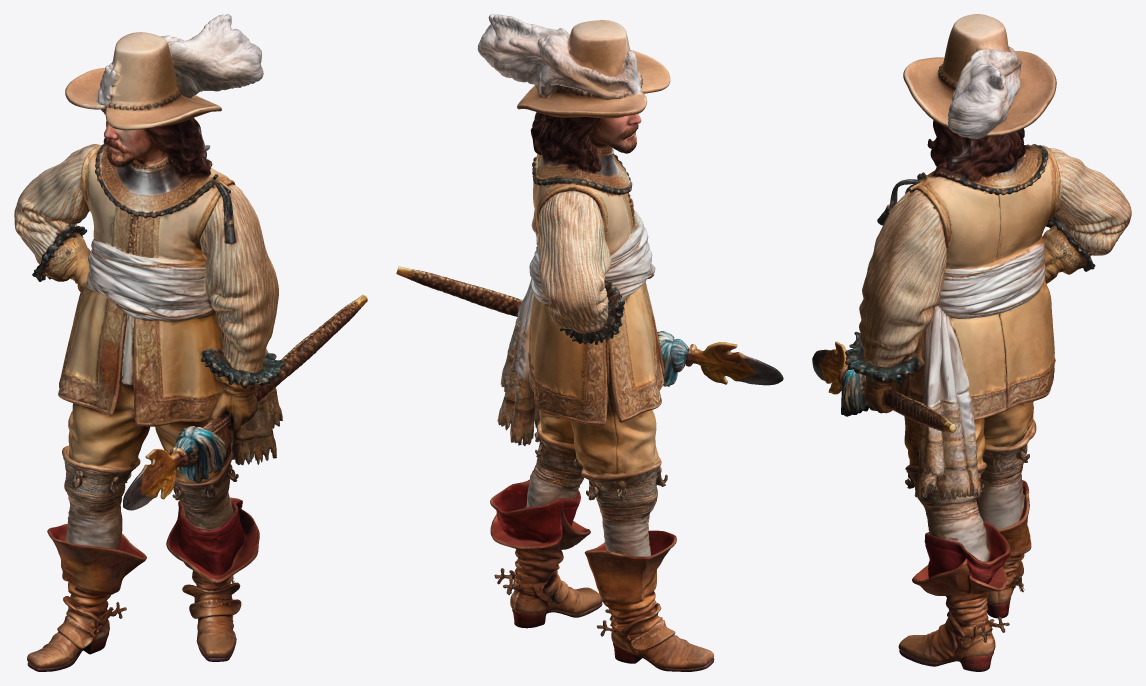
Rendered from lieutenant_willem_van_ruytenburch.glb.
3 views of the same model, side by side, from view 1: azimuth 30°, elevation 25°; view 2: azimuth 150°, elevation 25°; view 3: azimuth 270°, elevation 25° (orthographic).
Visible parts, largest first — view 1: Лейтенант; view 2: Лейтенант; view 3: Лейтенант.
Boxes of the visible parts, x1,y1,x2,y2 form: Лейтенант: (14,14,367,671); Лейтенант: (396,14,783,671); Лейтенант: (812,14,1131,671).
Size of the model in its own units: 1.04 by 1.86 by 0.8826.
Materials: 1 (1 with a texture image).
